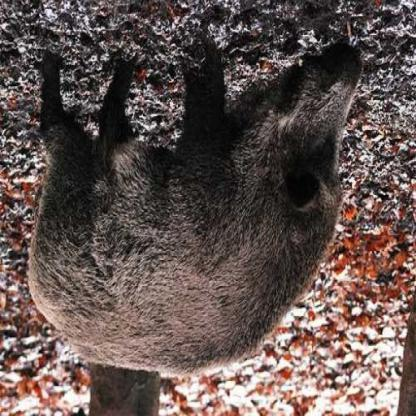boar: (23, 35, 365, 382)
